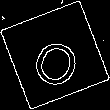O_NE: (25, 23, 85, 87)
